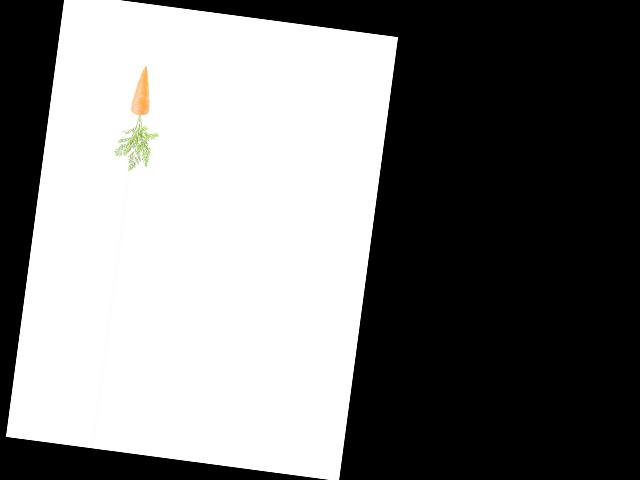carrot: (125, 63, 160, 119)
